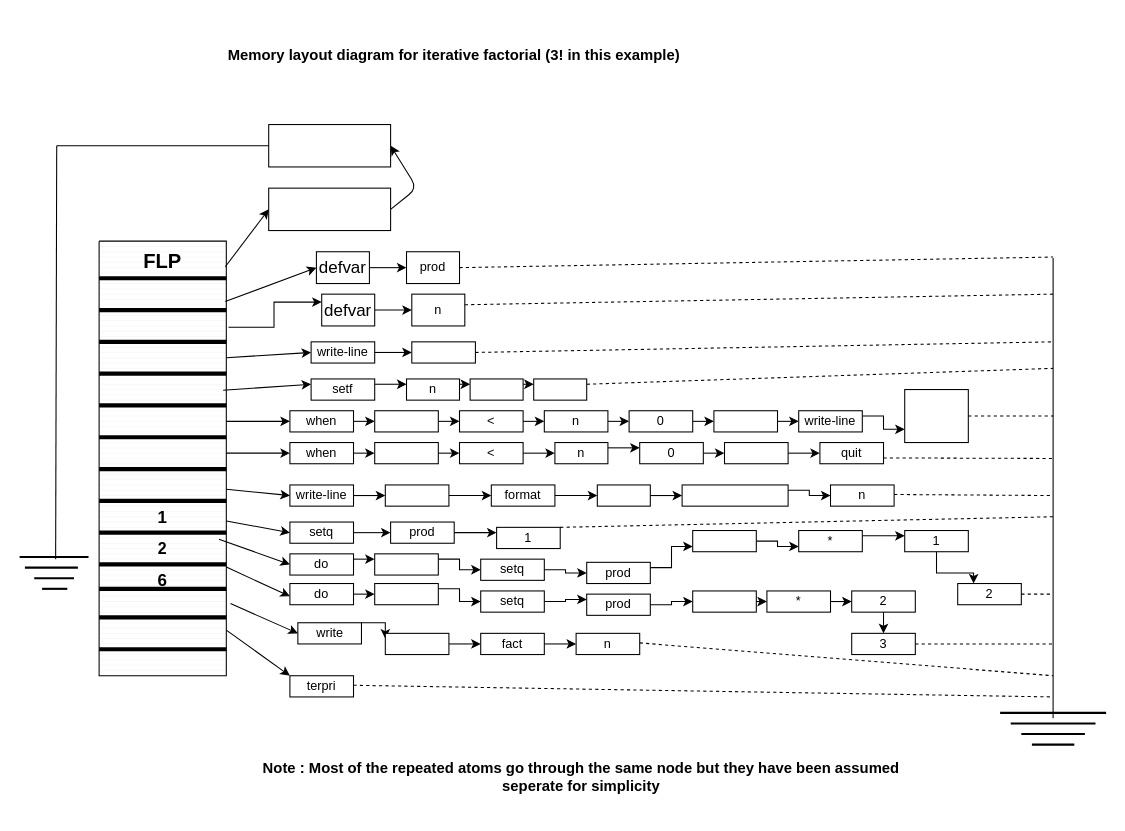
Image size: 1125x831. Some labels were removed from this diagram. The shapes that lost their labels are listed below. From the top down, each one's centre as x and y in pixels, then its label:
the point at 443,352: "Enter n:"
the point at 560,389: read
the point at 936,415: "N cannot be less than 0!"
the point at 623,495: nill
the point at 734,495: "~D factorial is :"
